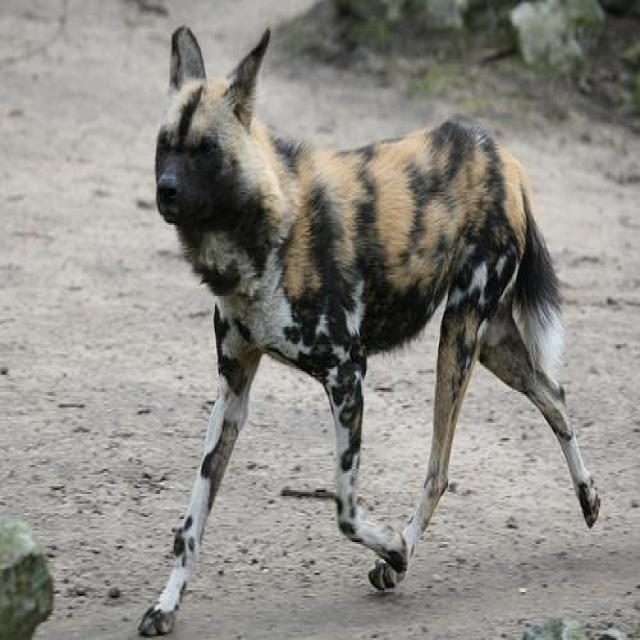dog: (127, 21, 618, 640)
